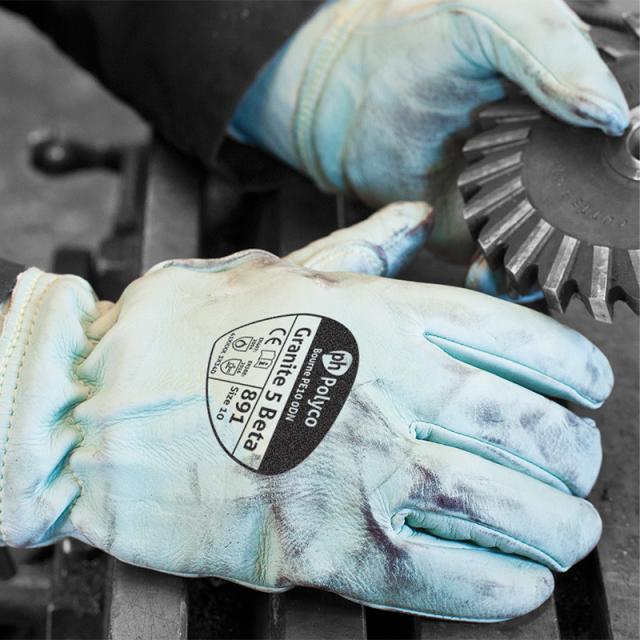gloves: (0, 196, 616, 624), (221, 0, 640, 306)
